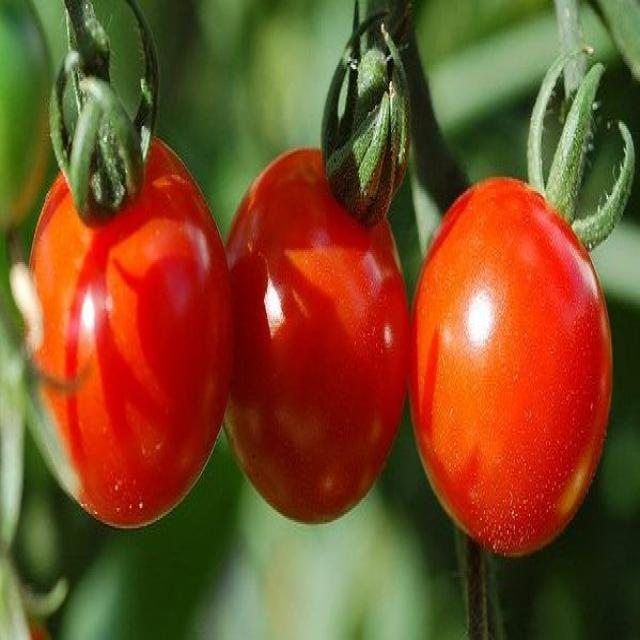kirmizi: (20, 142, 622, 574)
